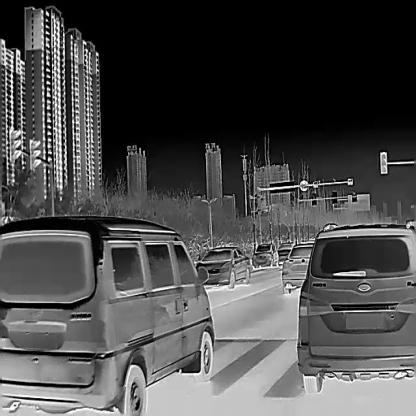car: (0, 214, 214, 415), (296, 218, 415, 391), (195, 245, 250, 288), (280, 240, 313, 292), (252, 242, 278, 267), (277, 241, 294, 260)
